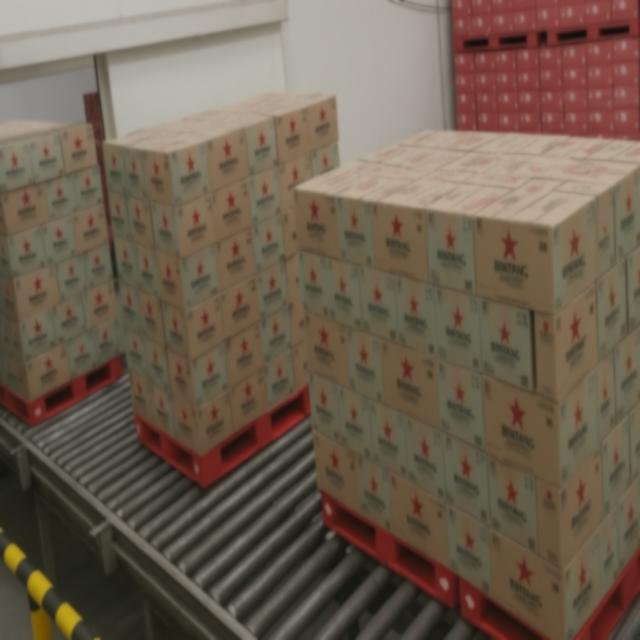pallet: (287, 89, 639, 640), (102, 68, 344, 510), (0, 108, 129, 437)
